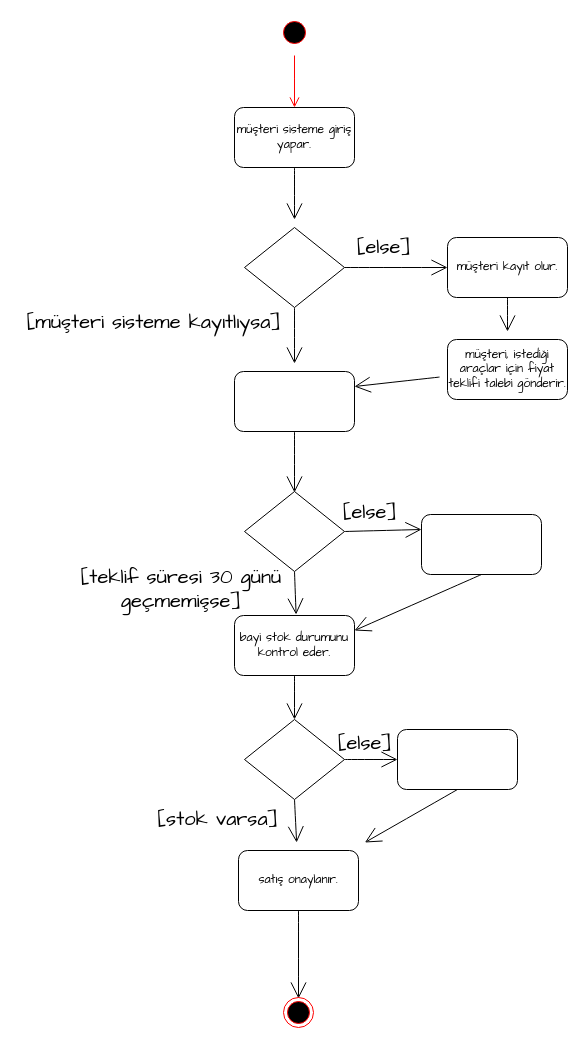
The diagram is 585 pixels wide and 1045 high, and some of its shapes have lost their labels. Each missing label, with the box of its shape:
depodan araç çekilir.: (396, 728, 518, 790)
müşteri yeni bir fiyat teklifi talebi gönderir.: (420, 514, 542, 574)
yapılan fiyat teklifleri arasından istenilen araç için seçim yapar: (234, 370, 354, 432)
